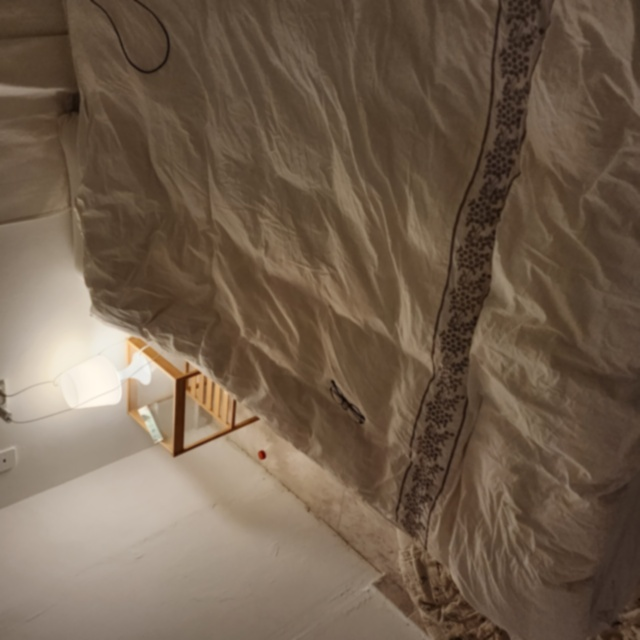glasses: (325, 376, 370, 427)
